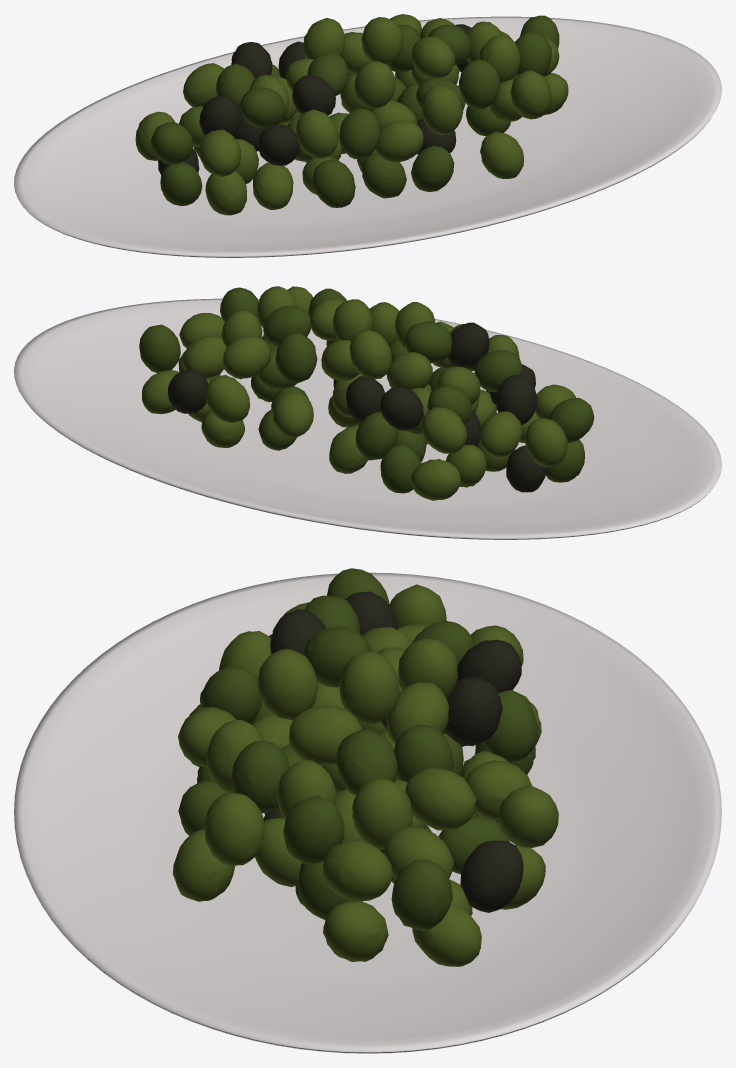
The model's file is zaytun.glb.
3 renders of one model, top to bottom at view 1: azimuth 30°, elevation 25°; view 2: azimuth 150°, elevation 25°; view 3: azimuth 270°, elevation 25°, orthographic. The views are drawn at different scales.
Visible parts, largest first — view 1: plate, ol70, ol16, ol6, ol54, ol39, ol58, ol38, ol55, ol68, ol66, ol22 (+39 smaller); view 2: plate, ol65, ol53, ol57, ol42, ol62, ol69, ol44, ol72, ol25, ol33, ol67 (+36 smaller); view 3: plate, ol52, ol68, ol44, ol66, ol72, ol19, ol55, ol63, ol1, ol46, ol71 (+33 smaller).
Boxes of the visible parts, bbox=[...] form: plate: bbox=[14, 16, 721, 257]; ol70: bbox=[339, 108, 380, 159]; ol16: bbox=[312, 159, 355, 207]; ol6: bbox=[480, 131, 523, 178]; ol54: bbox=[296, 109, 338, 158]; ol39: bbox=[421, 85, 463, 134]; ol58: bbox=[459, 59, 500, 109]; ol38: bbox=[375, 120, 423, 162]; ol55: bbox=[354, 61, 395, 109]; ol68: bbox=[510, 70, 552, 119]; ol66: bbox=[361, 17, 402, 64]; ol22: bbox=[199, 129, 240, 176]; plate: bbox=[14, 298, 721, 539]; ol65: bbox=[421, 407, 467, 453]; ol53: bbox=[205, 375, 249, 422]; ol57: bbox=[275, 333, 317, 383]; ol42: bbox=[525, 418, 567, 467]; ol62: bbox=[411, 459, 461, 500]; ol69: bbox=[349, 330, 391, 379]; ol44: bbox=[223, 336, 271, 378]; ol72: bbox=[139, 324, 180, 372]; ol25: bbox=[479, 411, 521, 457]; ol33: bbox=[272, 391, 313, 437]; ol67: bbox=[404, 321, 451, 363]; plate: bbox=[14, 572, 721, 1053]; ol52: bbox=[460, 840, 523, 912]; ol68: bbox=[204, 792, 264, 866]; ol44: bbox=[405, 767, 476, 830]; ol66: bbox=[339, 651, 399, 724]; ol72: bbox=[391, 859, 452, 930]; ol19: bbox=[322, 840, 392, 901]; ol55: bbox=[257, 649, 317, 720]; ol63: bbox=[283, 795, 344, 865]; ol1: bbox=[323, 901, 388, 961]; ol46: bbox=[445, 677, 502, 746]; ol71: bbox=[352, 778, 412, 850].
Size of the model in its own units: 1.08 by 0.2181 by 0.675.
